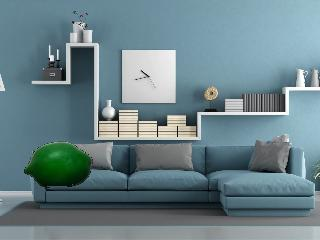lime: (22, 140, 101, 190)
